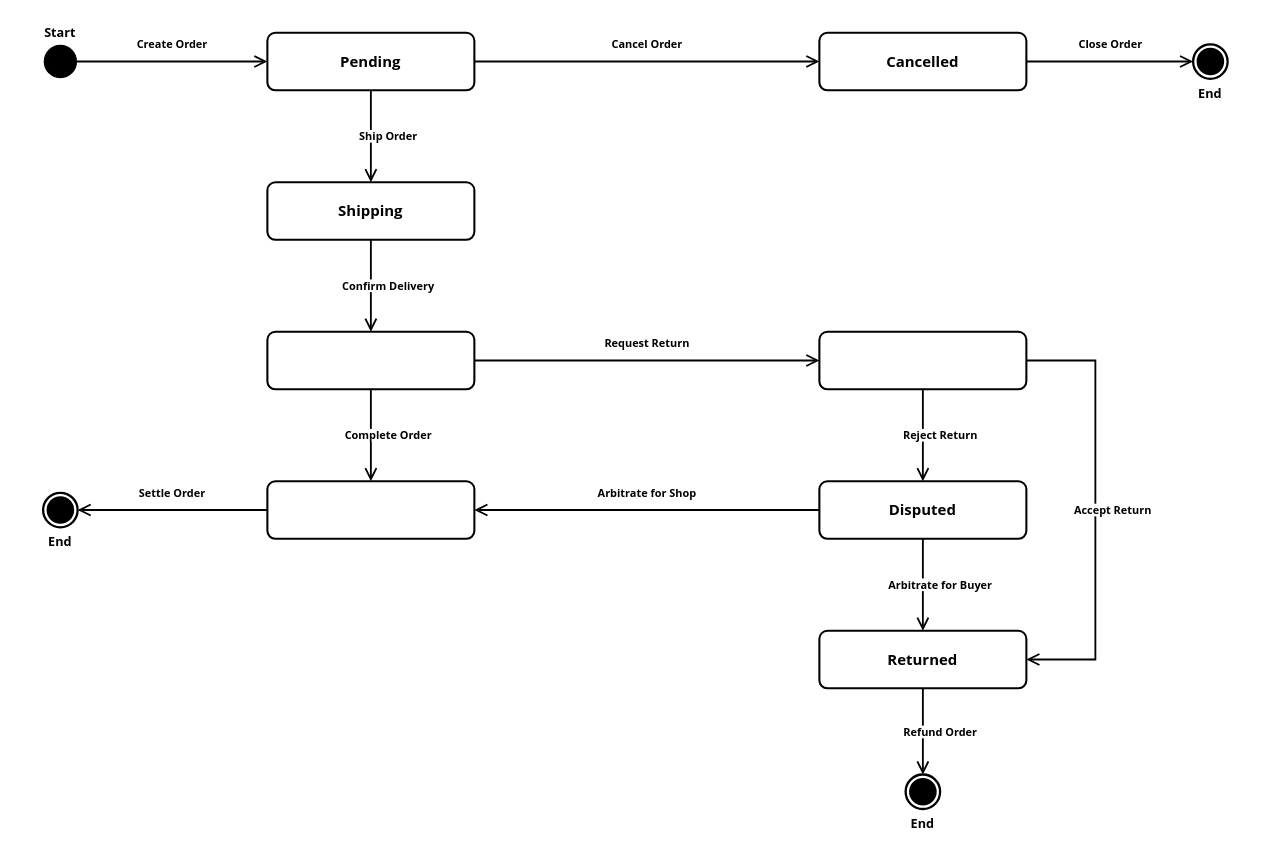
Image size: 1270x853. Some labels were removed from this diagram. Each missing label, with the centre of its shape:
Completed: (x=370, y=509)
Delivered: (x=370, y=360)
Return Requested: (x=922, y=360)
